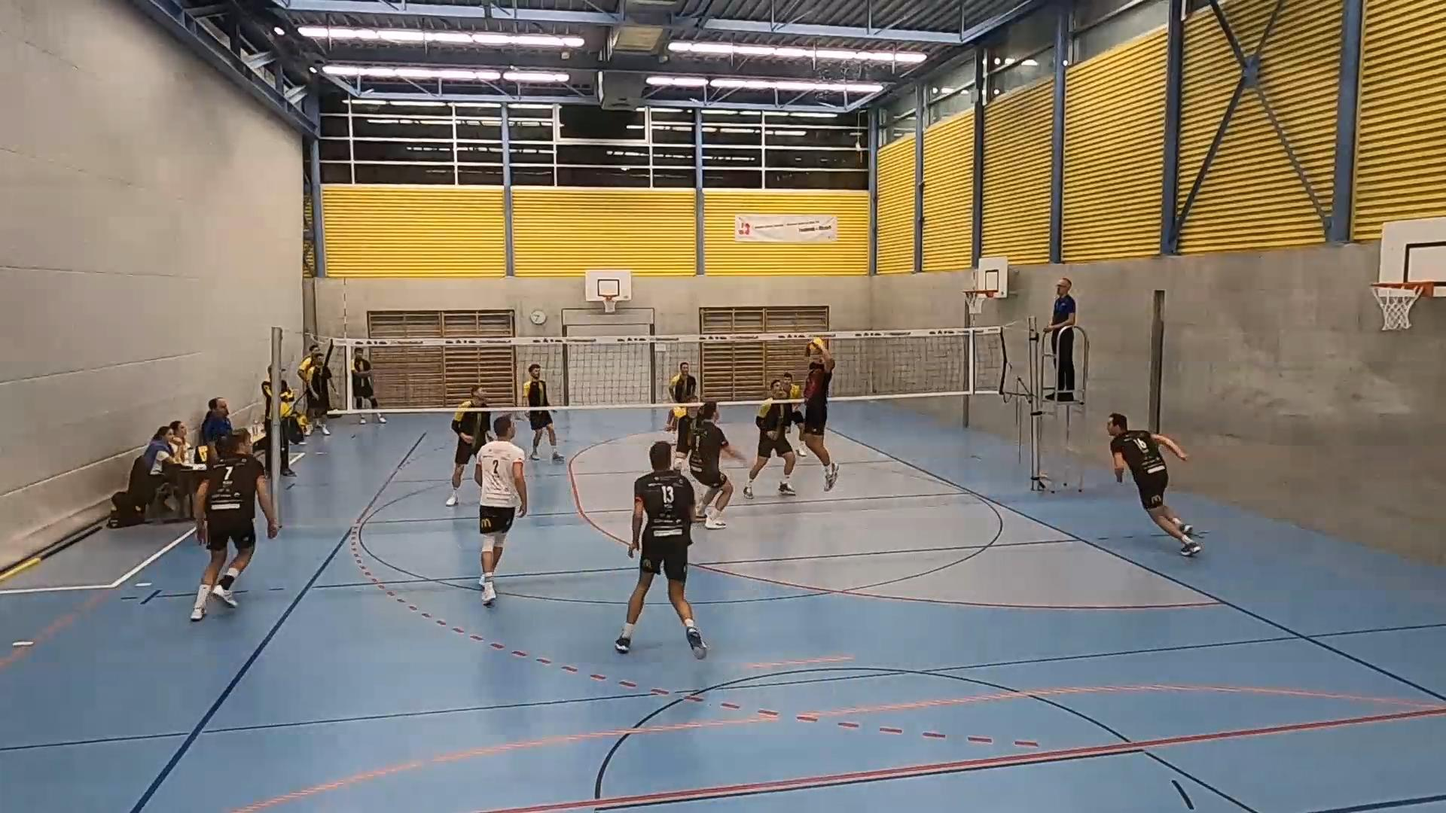Player: (615, 441, 706, 659), (191, 434, 280, 621), (1107, 413, 1201, 556), (475, 416, 526, 606), (689, 401, 743, 529), (743, 379, 795, 499), (446, 385, 490, 507), (523, 364, 563, 461), (664, 361, 697, 431), (673, 396, 697, 471), (782, 372, 802, 401)
Set: (795, 345, 838, 477)
ball: (807, 340, 826, 351)
